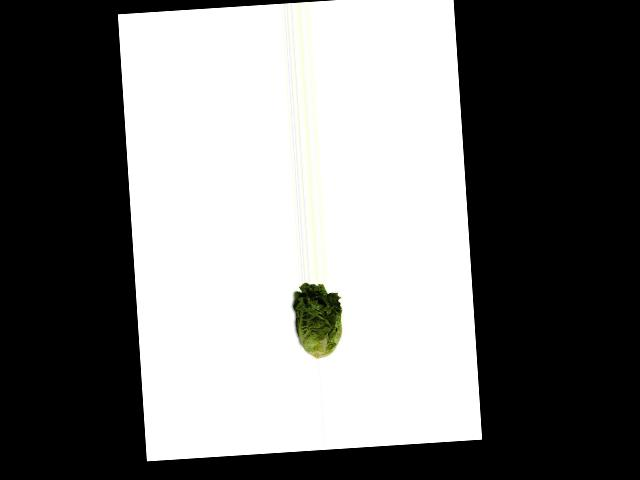lettuce: (288, 282, 349, 360)
